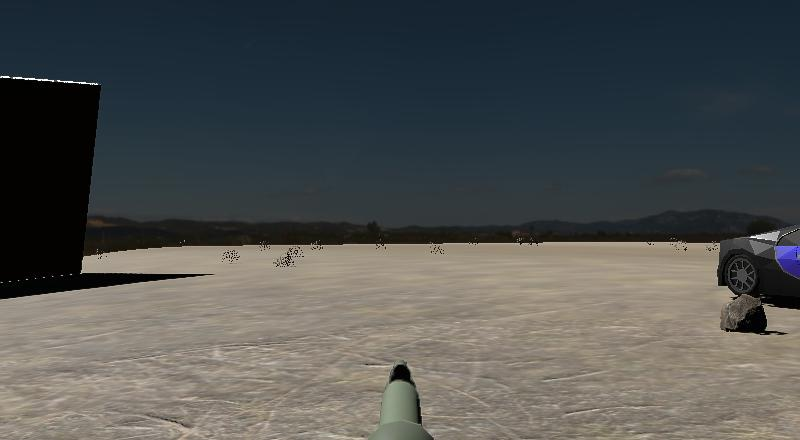car: (714, 219, 800, 313)
